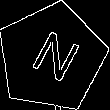N_SW: (22, 26, 81, 89)
